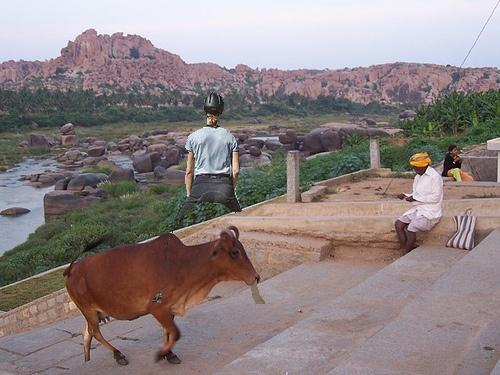tampered: (153, 93, 265, 304)
